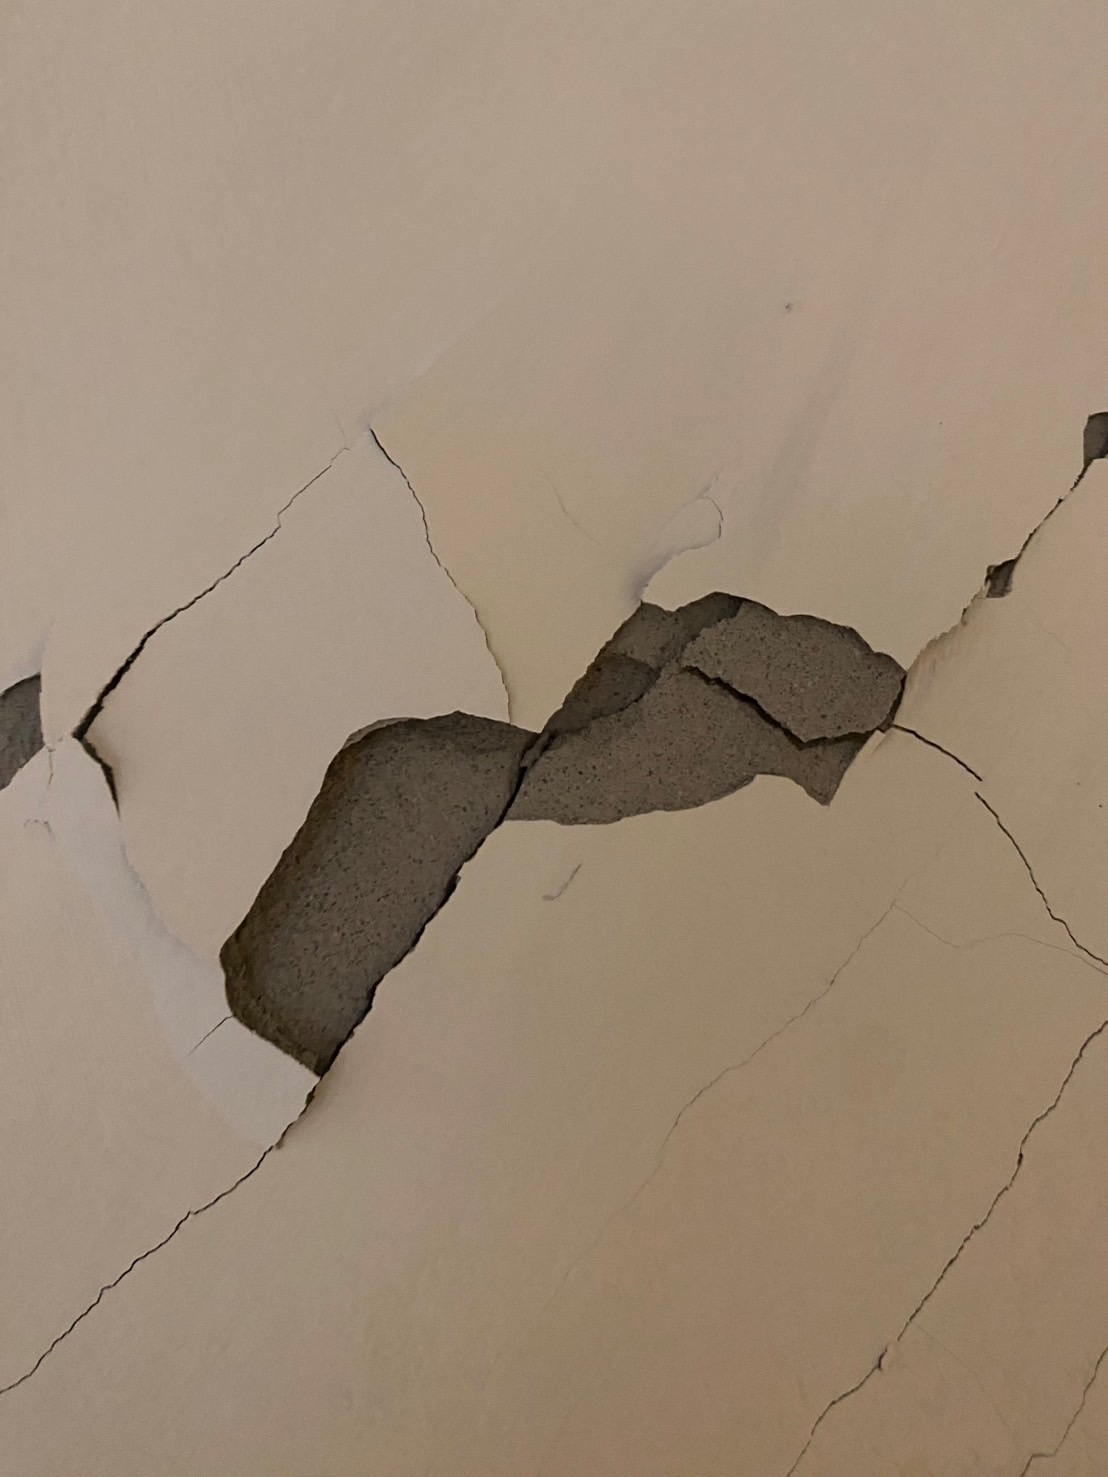Medium: (68, 467, 1068, 1103)
